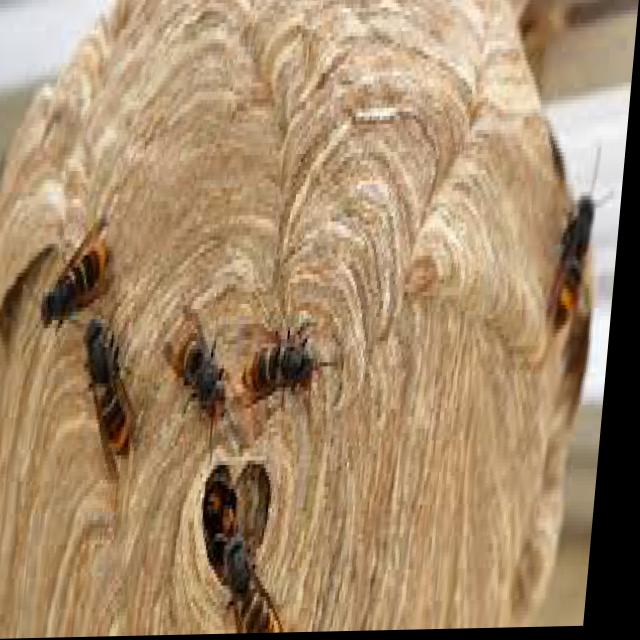Vespa Velutina: (540, 138, 628, 348), (158, 295, 247, 460), (76, 308, 157, 467), (39, 203, 129, 335), (244, 315, 351, 421), (223, 521, 318, 631)
